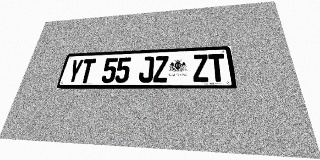5: (114, 57, 131, 83), (101, 58, 118, 83)
J: (138, 56, 154, 83)
T: (208, 53, 227, 82), (78, 59, 96, 83)
Y: (66, 59, 84, 83)
Z: (192, 54, 209, 82), (153, 56, 169, 82)
